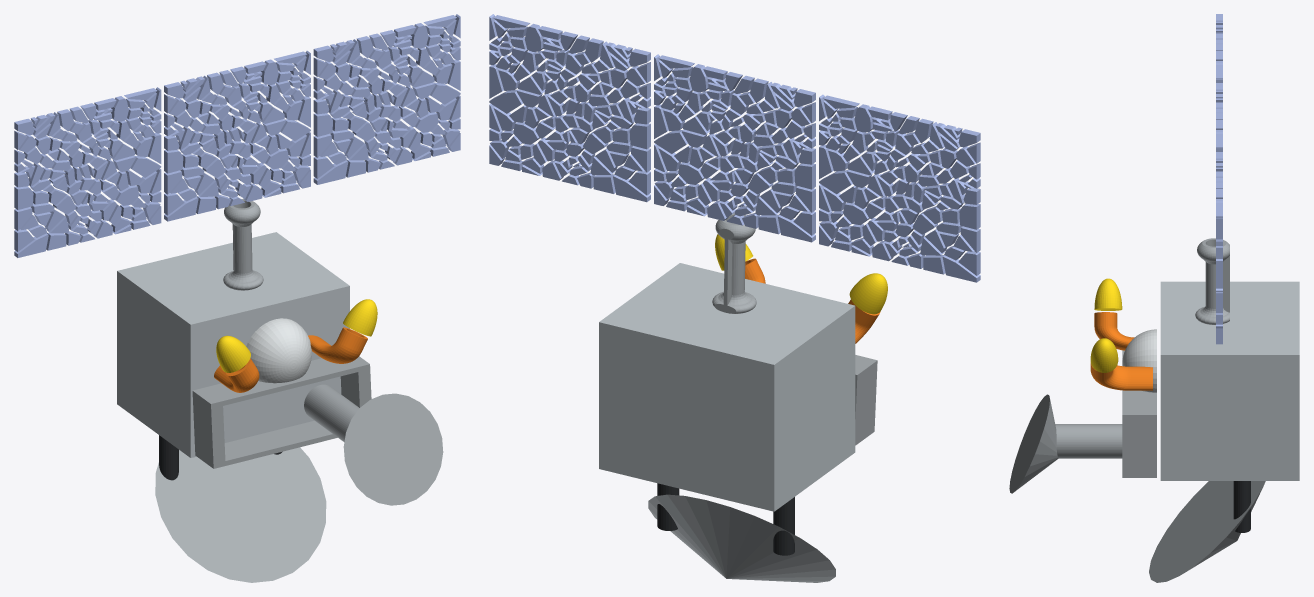
Rendered from tinker.obj.
The picture shows the model from 3 angles, left to right: view 1: azimuth 30°, elevation 25°; view 2: azimuth 150°, elevation 25°; view 3: azimuth 270°, elevation 25°; orthographic projection. The views are drawn at different scales.
Parts seen in each view (by area): view 1: group_0_11452141, group_0_10988977, group_0_12568524, group_0_14541540, group_0_16089887, group_0_16768282, group_0_2829873; view 2: group_0_11452141, group_0_12568524, group_0_10988977, group_0_2829873, group_0_16768282, group_0_16089887; view 3: group_0_12568524, group_0_10988977, group_0_11452141, group_0_16089887, group_0_16768282, group_0_14541540, group_0_2829873.
Part boxes in pixels (bbox=[...]): group_0_11452141: bbox=[14, 14, 460, 257]; group_0_10988977: bbox=[155, 199, 443, 582]; group_0_12568524: bbox=[117, 232, 349, 457]; group_0_14541540: bbox=[246, 318, 312, 383]; group_0_16089887: bbox=[214, 327, 367, 392]; group_0_16768282: bbox=[216, 299, 377, 372]; group_0_2829873: bbox=[159, 435, 282, 480]; group_0_11452141: bbox=[489, 14, 980, 282]; group_0_12568524: bbox=[599, 263, 855, 511]; group_0_10988977: bbox=[648, 213, 877, 582]; group_0_2829873: bbox=[657, 483, 794, 555]; group_0_16768282: bbox=[715, 234, 887, 314]; group_0_16089887: bbox=[745, 258, 880, 343]; group_0_12568524: bbox=[1160, 281, 1299, 480]; group_0_10988977: bbox=[1009, 238, 1265, 582]; group_0_11452141: bbox=[1216, 14, 1222, 344]; group_0_16089887: bbox=[1090, 312, 1152, 390]; group_0_16768282: bbox=[1090, 278, 1122, 372]; group_0_14541540: bbox=[1122, 329, 1156, 392]; group_0_2829873: bbox=[1233, 481, 1250, 532].
Bounding box in the file's own units: 139 × 145 × 83.46.
